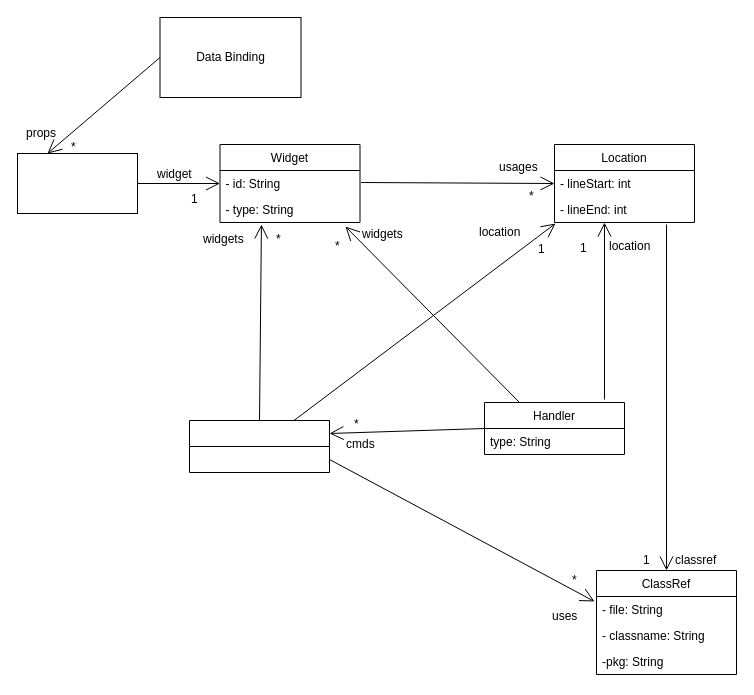
The diagram is 754 pixels wide and 695 high, and some of its shapes have lost their labels. The shapes that lost their labels are listed below. From the top down, each one's centre as x and y in pixels, then its label:
point (77, 183): Property
point (259, 446): UICommand
